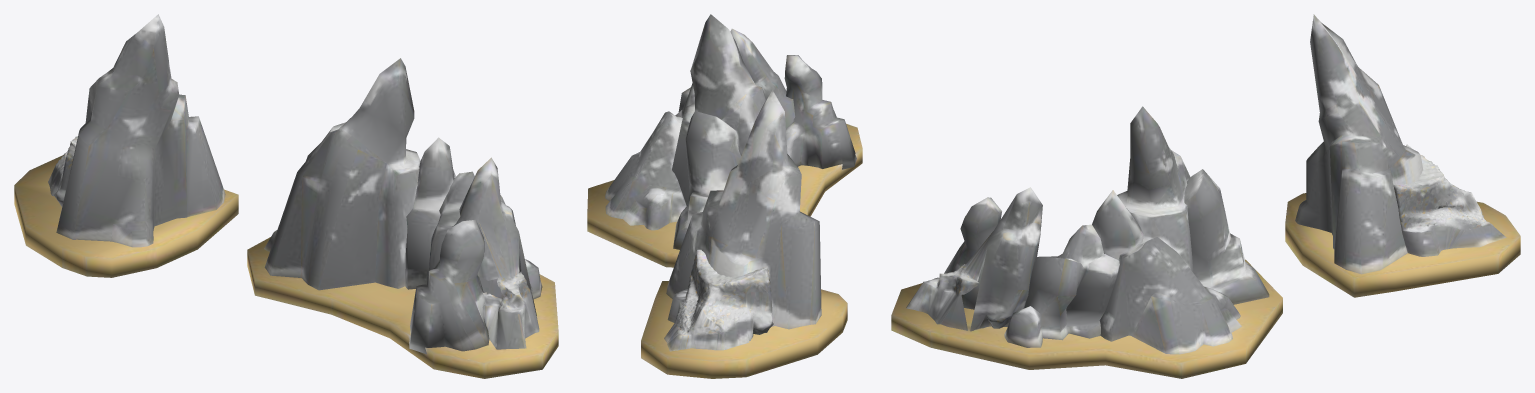
Rendered from isle_17.glb.
3 renders of one model, left to right at view 1: azimuth 30°, elevation 25°; view 2: azimuth 150°, elevation 25°; view 3: azimuth 270°, elevation 25°, orthographic. The views are drawn at different scales.
Visible parts, largest first — view 1: tripo_node_e291e3ed-443a-4f92-8127-e5b60a80f2db; view 2: tripo_node_e291e3ed-443a-4f92-8127-e5b60a80f2db; view 3: tripo_node_e291e3ed-443a-4f92-8127-e5b60a80f2db.
Part boxes in pixels (bbox=[...]): tripo_node_e291e3ed-443a-4f92-8127-e5b60a80f2db: bbox=[14, 14, 558, 378]; tripo_node_e291e3ed-443a-4f92-8127-e5b60a80f2db: bbox=[587, 14, 862, 378]; tripo_node_e291e3ed-443a-4f92-8127-e5b60a80f2db: bbox=[891, 14, 1520, 378].
Size of the model in its own units: 30.96 by 19.61 by 47.5.
Materials: 1 (1 with a texture image).
